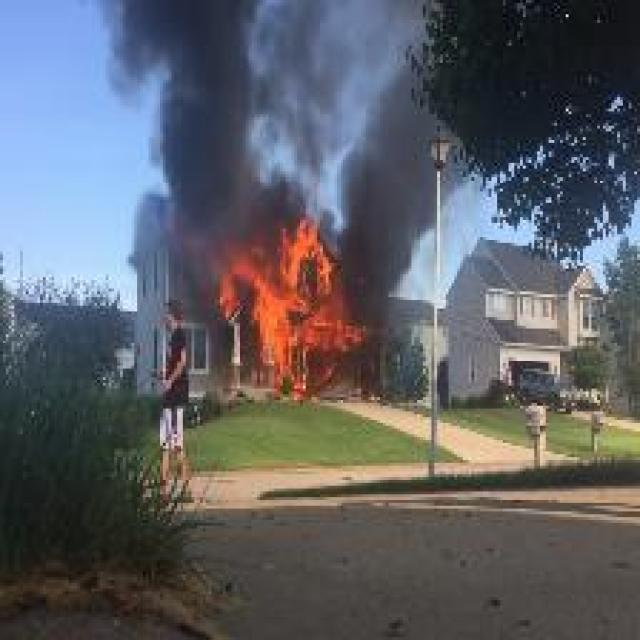Fire: (210, 220, 362, 402)
Smoke: (123, 0, 308, 230), (344, 72, 434, 290)
